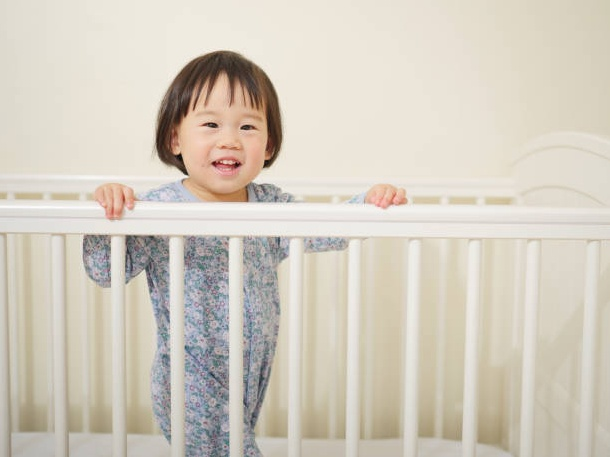baby: (138, 51, 293, 201)
crib: (0, 133, 609, 456)
